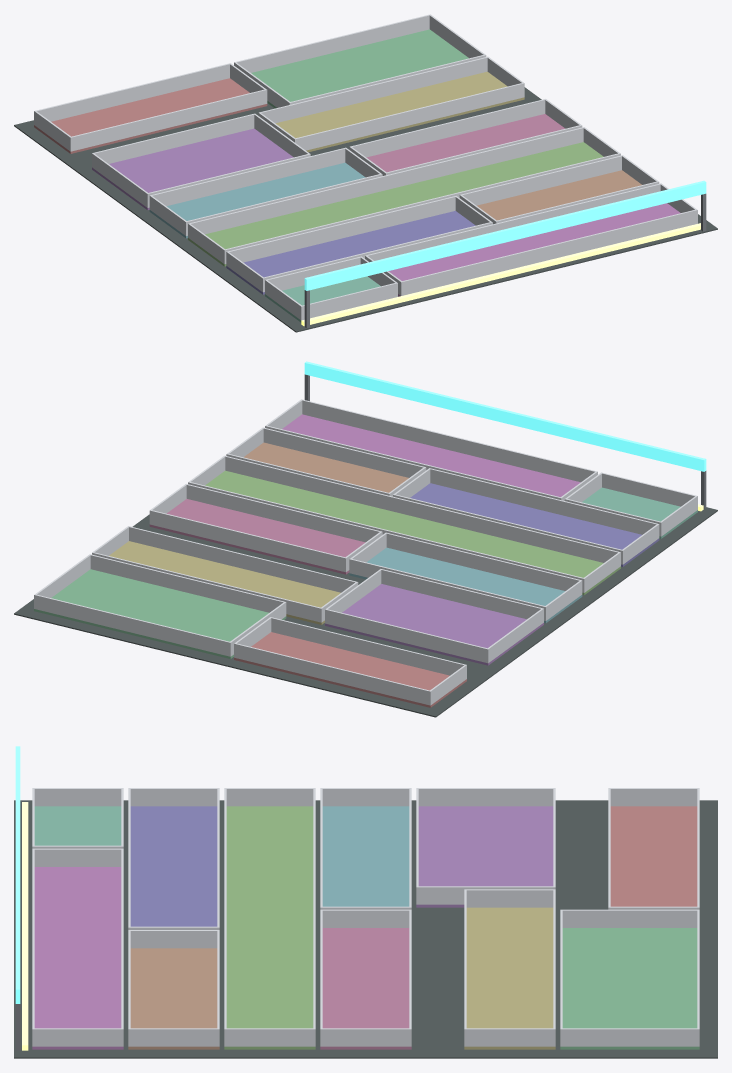
The model's file is hall-automation-int.glb.
3 renders of one model, top to bottom at view 1: azimuth 30°, elevation 25°; view 2: azimuth 150°, elevation 25°; view 3: azimuth 270°, elevation 25°, orthographic. The views are drawn at different scales.
Visible parts, largest first — view 1: Automation Integrators; view 2: Automation Integrators; view 3: Automation Integrators.
Boxes of the visible parts, x1=… form: Automation Integrators: x1=14, y1=14, x2=717, y2=332; Automation Integrators: x1=14, y1=361, x2=717, y2=717; Automation Integrators: x1=14, y1=746, x2=717, y2=1058.
Bounding box in the file's own units: 38 × 4.3 × 44.
